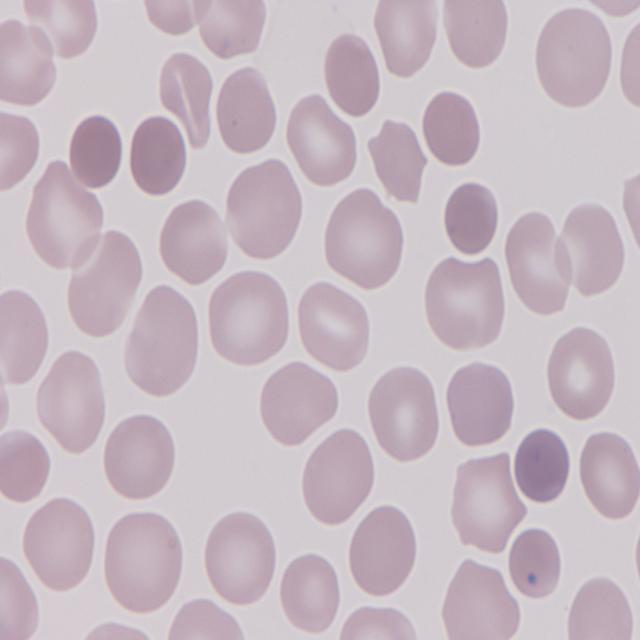RBC: (99, 506, 185, 616), (204, 268, 294, 370), (123, 281, 200, 400), (532, 5, 616, 110), (25, 164, 108, 270), (320, 187, 405, 290), (424, 253, 508, 355), (224, 160, 305, 264), (32, 350, 106, 460), (21, 494, 98, 599), (364, 362, 442, 465), (200, 506, 278, 608), (451, 455, 528, 556), (502, 208, 574, 316), (298, 428, 374, 530), (100, 406, 178, 504), (542, 326, 617, 426), (346, 503, 421, 601), (294, 278, 372, 372), (282, 94, 360, 188), (555, 202, 629, 300), (444, 358, 520, 453), (156, 194, 229, 288), (258, 361, 338, 446), (445, 558, 523, 640), (213, 65, 281, 158), (574, 431, 640, 522), (280, 548, 344, 639), (322, 28, 384, 120), (0, 284, 54, 389), (366, 114, 428, 204), (373, 0, 439, 82), (0, 17, 58, 107), (442, 0, 508, 74), (28, 0, 102, 62), (568, 574, 636, 640), (196, 0, 266, 64), (0, 426, 56, 504), (0, 106, 44, 192), (0, 552, 40, 640), (166, 599, 249, 640), (338, 605, 423, 640), (615, 13, 640, 117), (579, 1, 640, 23)
Spherocyte: (126, 112, 188, 200), (512, 428, 577, 510), (422, 84, 484, 168), (442, 177, 504, 260), (506, 517, 564, 600), (66, 112, 125, 190)
